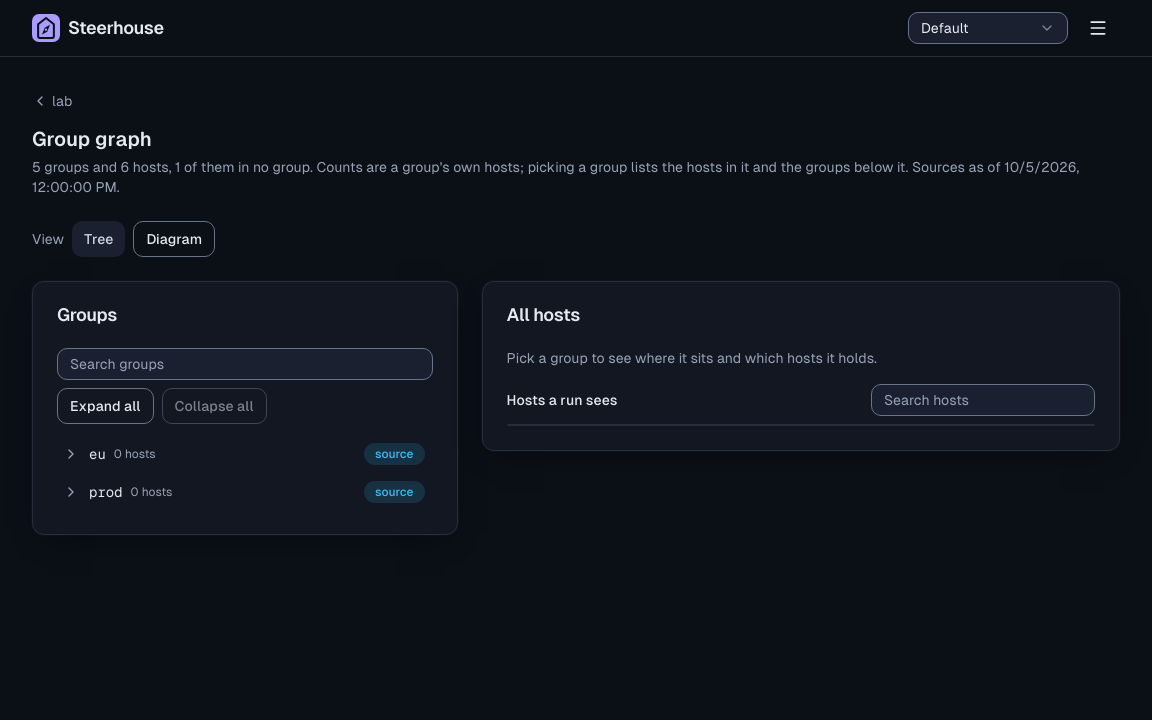
Test: inventory group graph › finds a nested group by name and selects it
Type "web" into the field labelled "Search groups" at point(245, 364), box [57, 348, 433, 380]
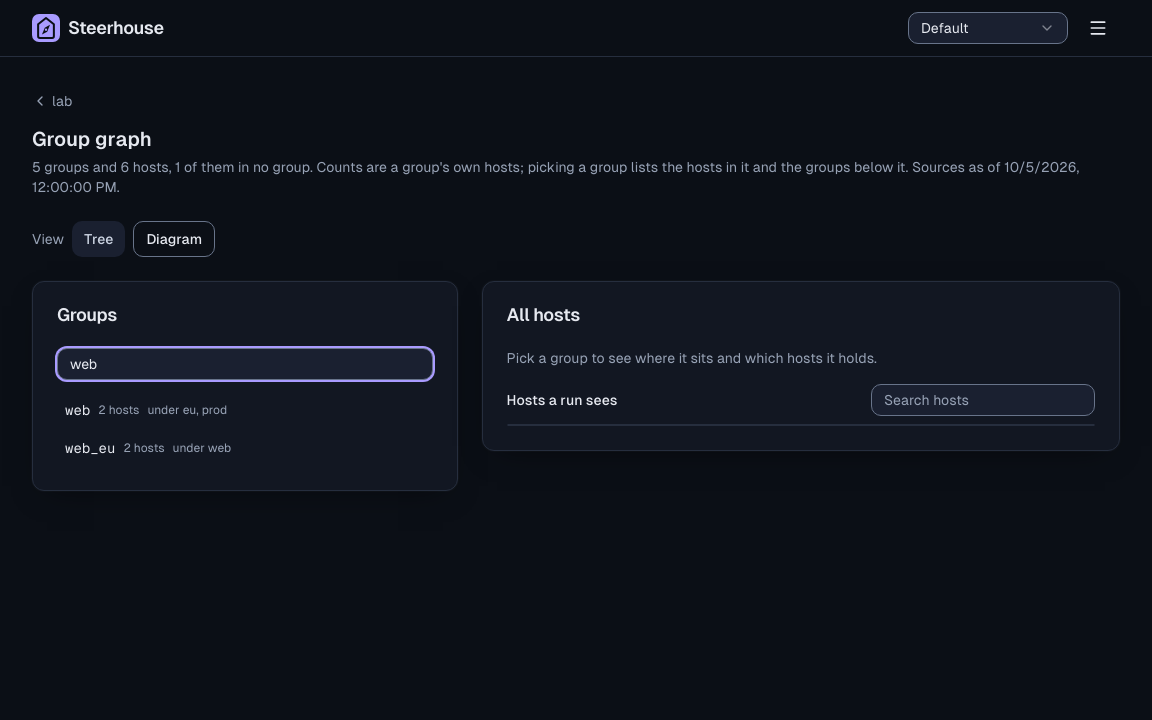
Expected: the text "under eu, prod" is shown, [147, 402, 227, 418]
Click the button "web_eu 2 hosts under web" at point(90, 448), box [57, 430, 433, 466]
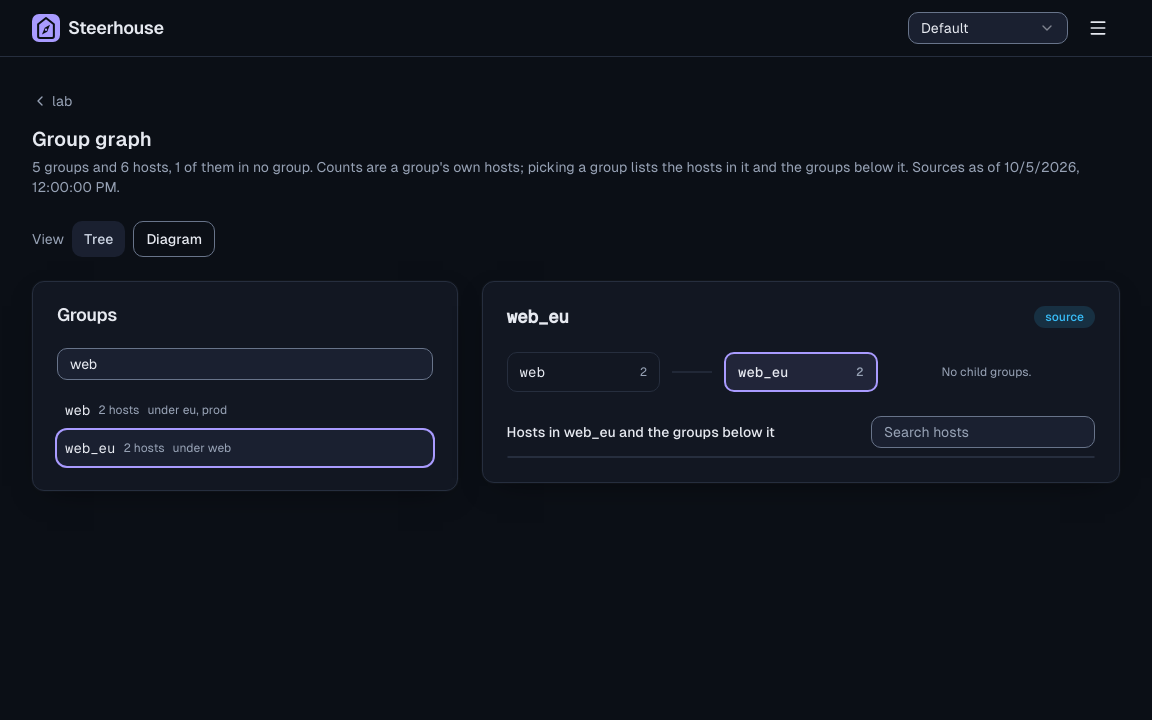
Expected: the element named "Where web_eu sits" is shown, [507, 352, 1095, 392]
Expected: the list item "No child groups." is shown, [942, 365, 1031, 379]
Type "zzz" into the field named "Search groups" at point(245, 364), box [57, 348, 433, 380]
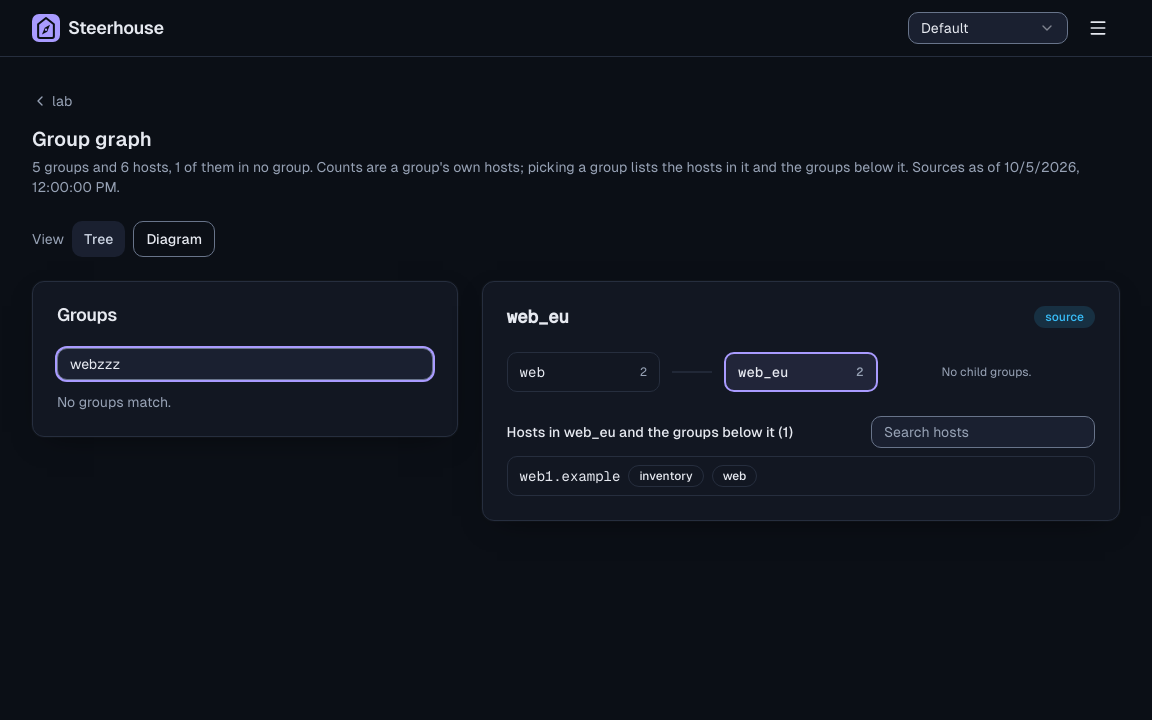
Expected: the text "No groups match." is shown, [57, 394, 171, 410]
